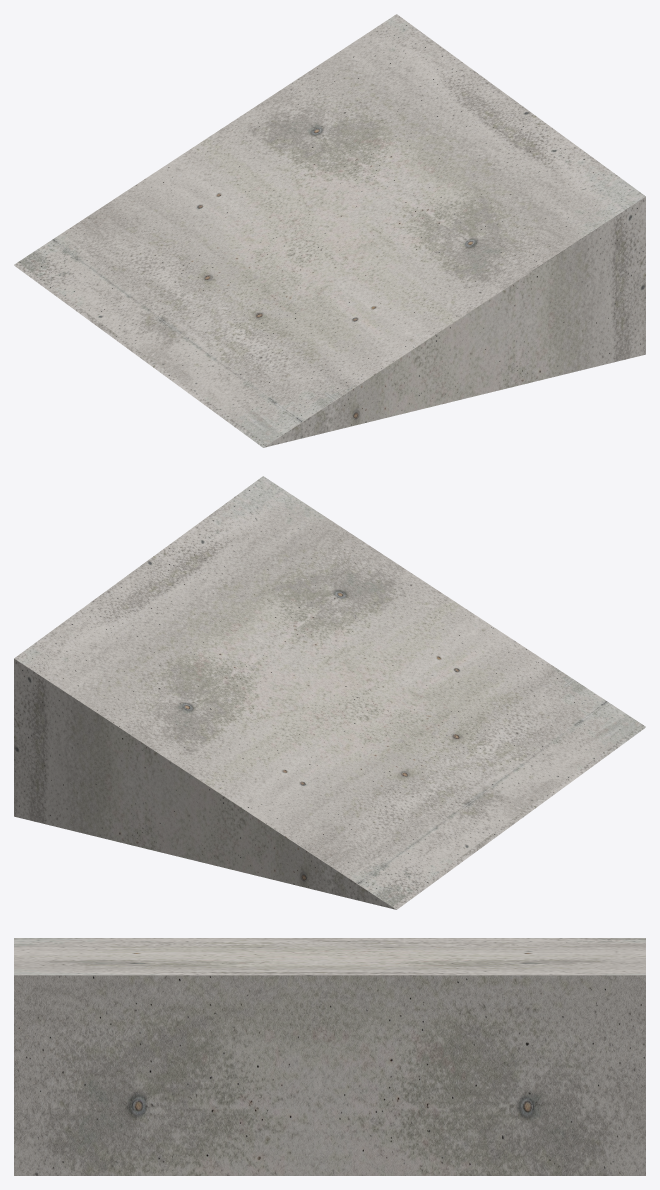
Rendered from stonerampmedium.glb.
3 views of the same model, one above another, from view 1: azimuth 30°, elevation 25°; view 2: azimuth 150°, elevation 25°; view 3: azimuth 270°, elevation 25° (orthographic). The views are drawn at different scales.
Visible parts, largest first — view 1: Ramp_Oak; view 2: Ramp_Oak; view 3: Ramp_Oak.
Part boxes in pixels (box(x1,y1,x2,y2)): Ramp_Oak: box(14, 14, 645, 447); Ramp_Oak: box(14, 476, 645, 909); Ramp_Oak: box(14, 938, 645, 1175).
Bounding box in the file's own units: 0.8865 × 0.35 × 1.
Materials: 1 (1 with a texture image).
